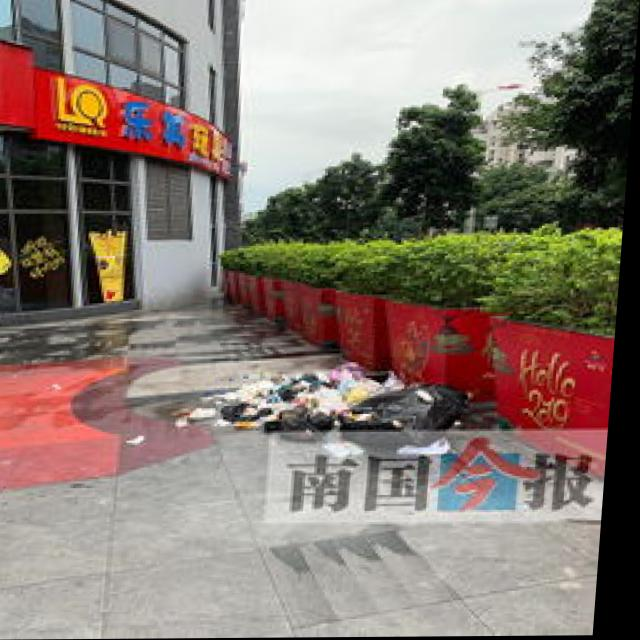garbage: (180, 357, 476, 457)
